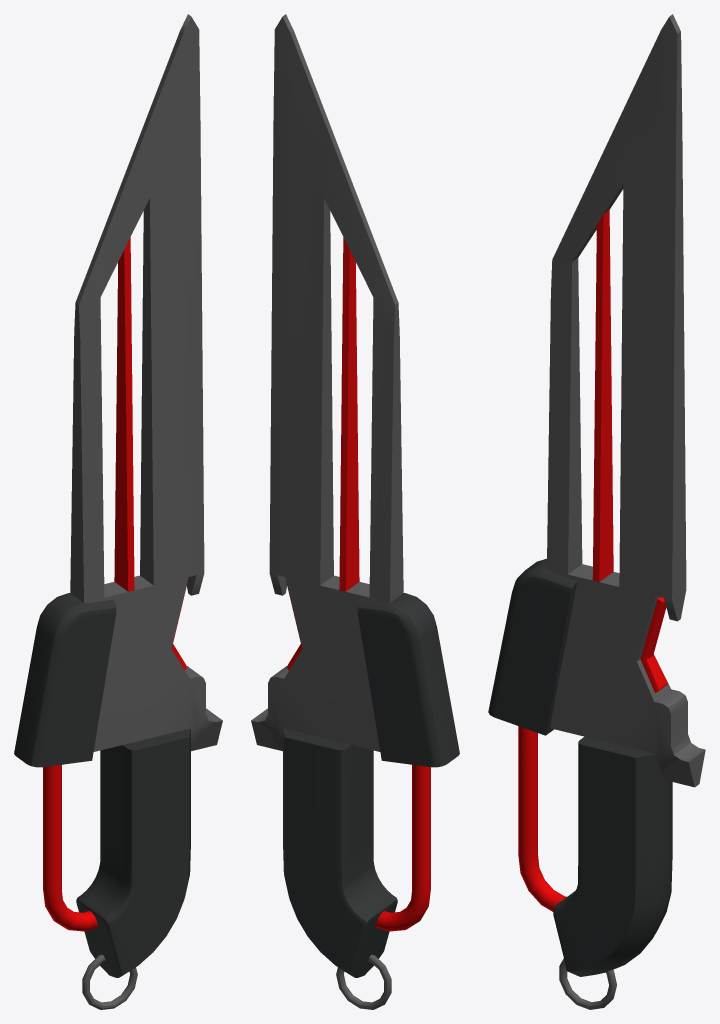
The model's file is weapon_laserSword_model.fbx.
The picture shows the model from 3 angles, left to right: view 1: azimuth 30°, elevation 25°; view 2: azimuth 150°, elevation 25°; view 3: azimuth 330°, elevation 25°; orthographic projection. The views are drawn at different scales.
Parts seen in each view (by area): view 1: Laser_Sword; view 2: Laser_Sword; view 3: Laser_Sword.
Part boxes in pixels (x1,y1,x2,y2): Laser_Sword: (14,14,222,1009); Laser_Sword: (251,14,459,1009); Laser_Sword: (488,14,705,1009).
Bounding box in the file's own units: 6.99 × 33.64 × 2.09.
